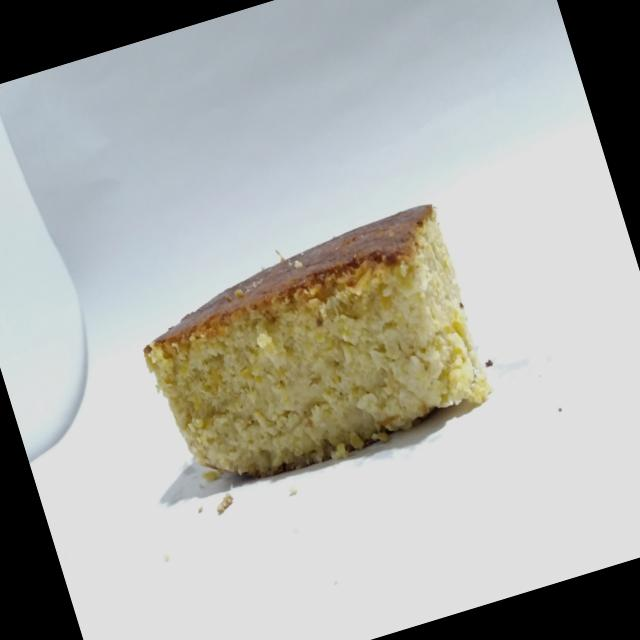Chipa_Guazu: (109, 179, 520, 525)
